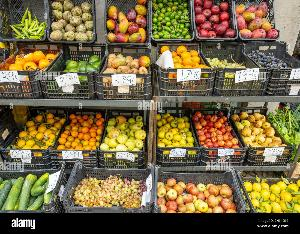apple: (159, 173, 239, 215), (234, 112, 282, 152), (196, 112, 240, 152), (197, 1, 239, 40), (154, 113, 196, 151)
avocado: (54, 53, 103, 84)
bell_pepper: (0, 1, 48, 40)
cucumber: (1, 169, 64, 215)
grape: (246, 46, 300, 80), (205, 46, 255, 82)
lemon: (242, 174, 300, 218)
mango: (234, 0, 286, 40)
orange: (156, 40, 210, 84), (10, 116, 64, 152), (56, 112, 104, 152)
pear: (104, 115, 146, 158)
